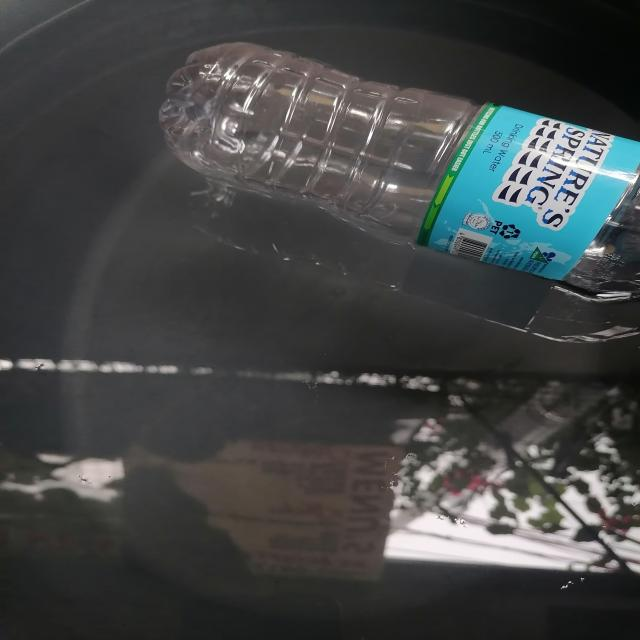Plastic Bottle: (143, 26, 640, 320)
